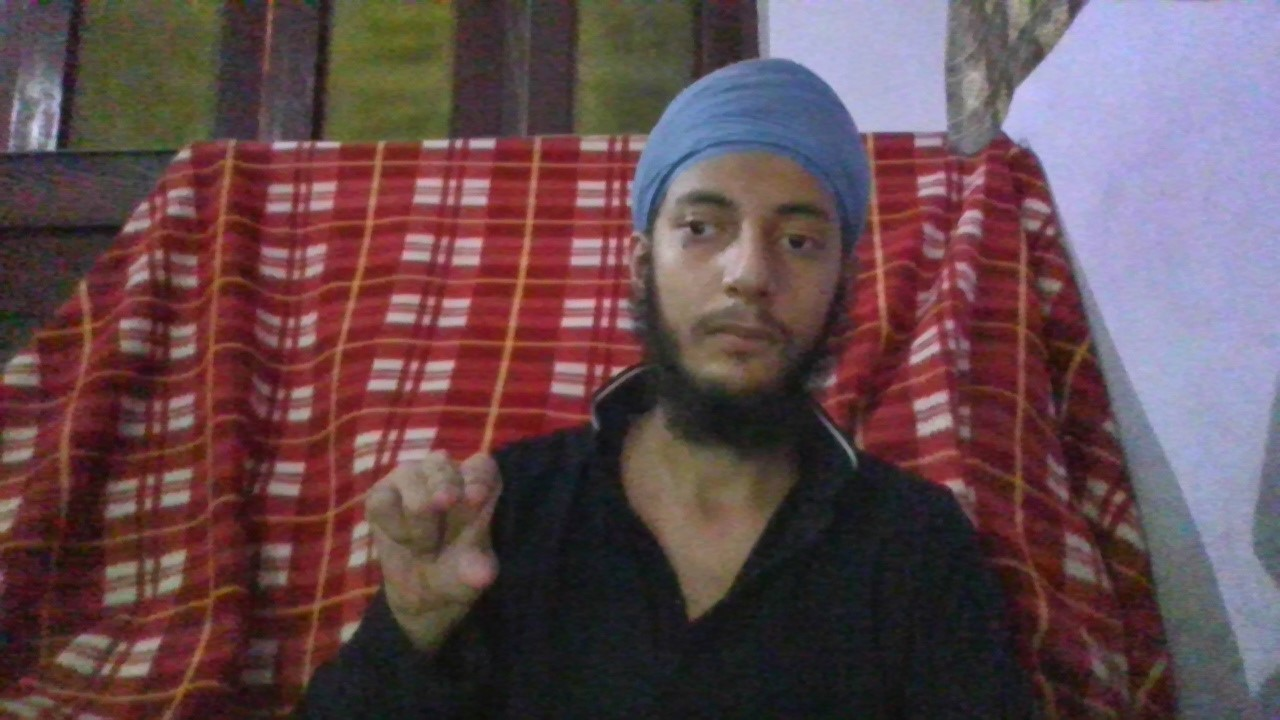No: (359, 448, 500, 600)
